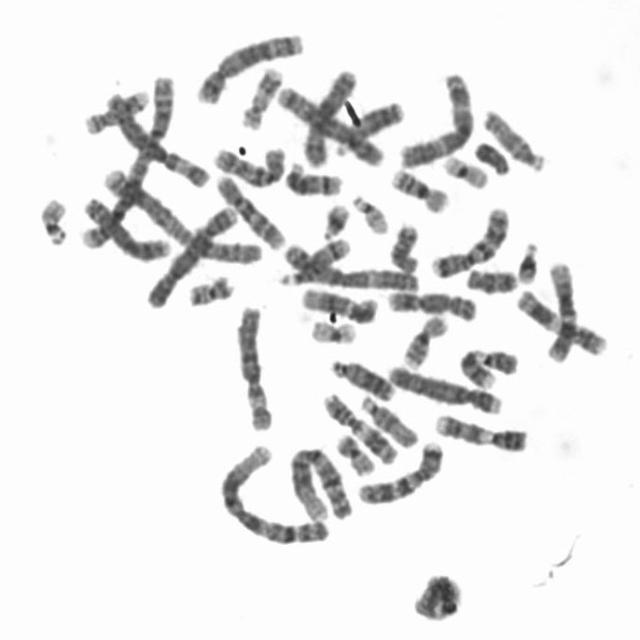A1: (213, 438, 333, 548), (282, 440, 356, 523)
A2: (76, 68, 177, 251), (94, 161, 266, 267)
A3: (393, 64, 477, 170), (276, 236, 421, 294)
B4: (141, 198, 242, 310), (382, 357, 504, 416)
B5: (271, 78, 386, 168), (189, 25, 306, 106)
C10: (209, 168, 287, 251), (207, 138, 288, 190)
C11: (510, 281, 610, 357), (316, 386, 400, 467)
C12: (540, 255, 580, 364), (295, 280, 380, 325)
C6: (98, 84, 213, 190), (230, 297, 276, 433)
C7: (425, 199, 512, 280), (352, 435, 446, 505)
C8: (78, 190, 172, 263), (380, 283, 480, 323)
C9: (428, 406, 530, 454), (452, 340, 522, 390)
D13: (328, 94, 405, 158), (324, 352, 398, 402)
D14: (274, 230, 353, 288), (279, 155, 344, 198)
D15: (476, 101, 550, 174), (354, 386, 420, 449)
E16: (386, 160, 452, 214), (396, 308, 450, 369)
E17: (78, 82, 152, 136), (235, 60, 285, 130)
E18: (383, 216, 422, 275), (460, 261, 520, 296)
F19: (436, 148, 491, 190), (304, 313, 359, 346)
F20: (330, 427, 377, 477), (182, 267, 235, 307)
G21: (315, 196, 352, 242), (511, 234, 542, 286)
G22: (345, 187, 391, 236), (33, 190, 71, 248)
X: (297, 62, 359, 170)
Y: (468, 134, 512, 176)
